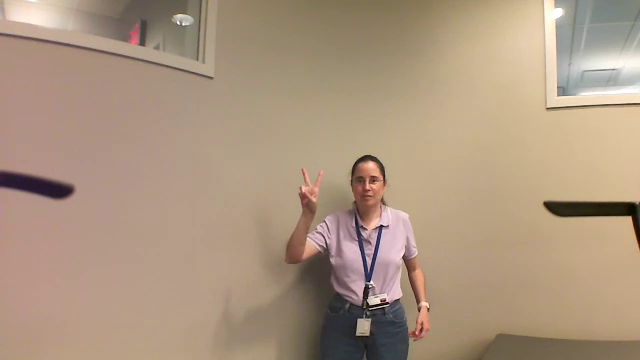peace: (295, 162, 328, 213)
